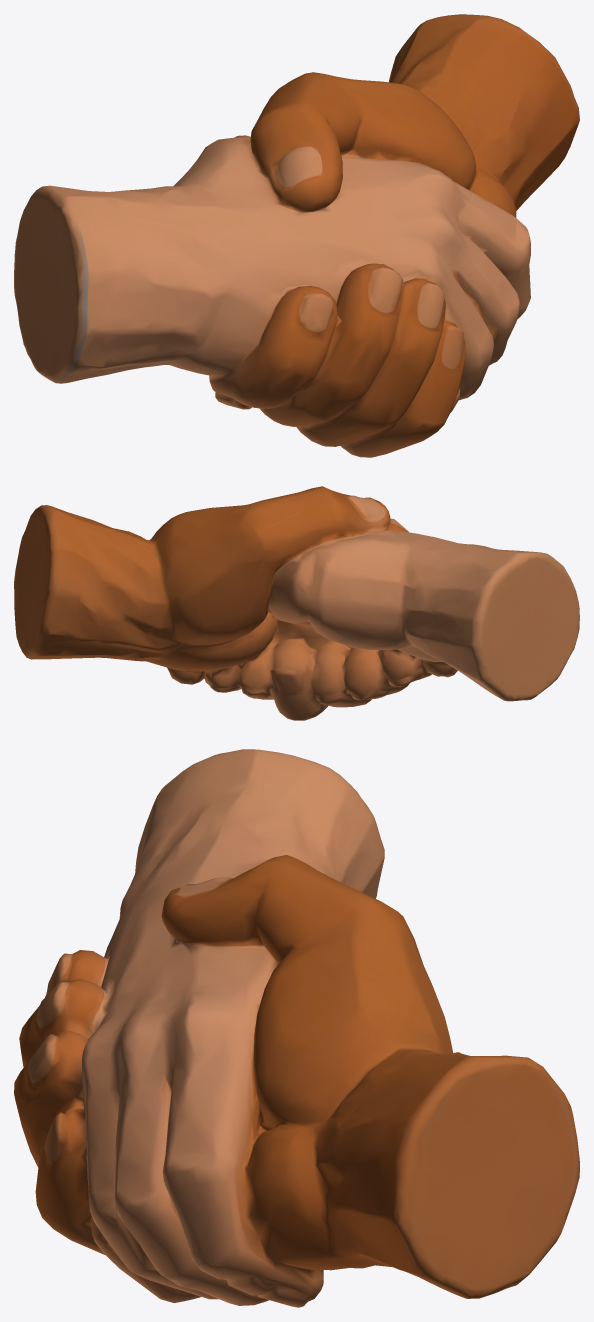
The model's file is handshake_(diplomacy_icon).fbx.
3 renders of one model, top to bottom at view 1: azimuth 30°, elevation 25°; view 2: azimuth 150°, elevation 25°; view 3: azimuth 270°, elevation 25°, orthographic. The views are drawn at different scales.
Parts seen in each view (by area): view 1: tripo_node_3ca73b58; view 2: tripo_node_3ca73b58; view 3: tripo_node_3ca73b58.
Boxes of the visible parts, x1,y1,x2,y2 form: tripo_node_3ca73b58: [14, 14, 579, 457]; tripo_node_3ca73b58: [14, 486, 579, 720]; tripo_node_3ca73b58: [14, 749, 579, 1307].
Size of the model in its own units: 100 by 65.11 by 51.03.
1 material, 1 textured.
